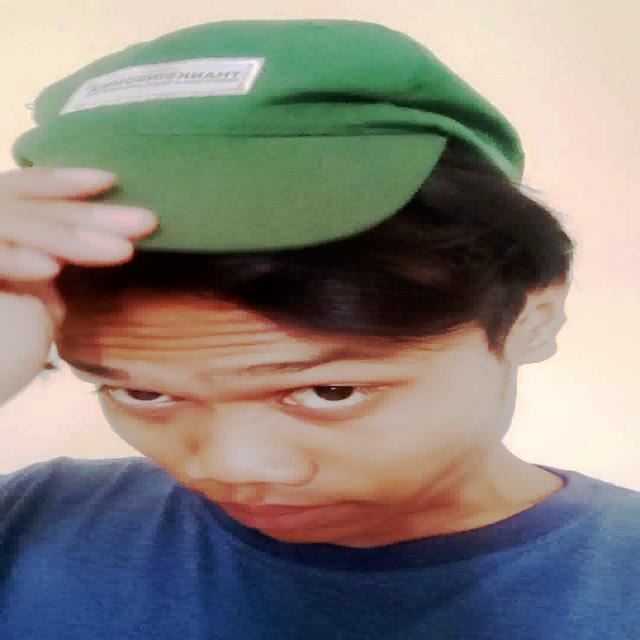TOPI: (2, 21, 541, 260)
